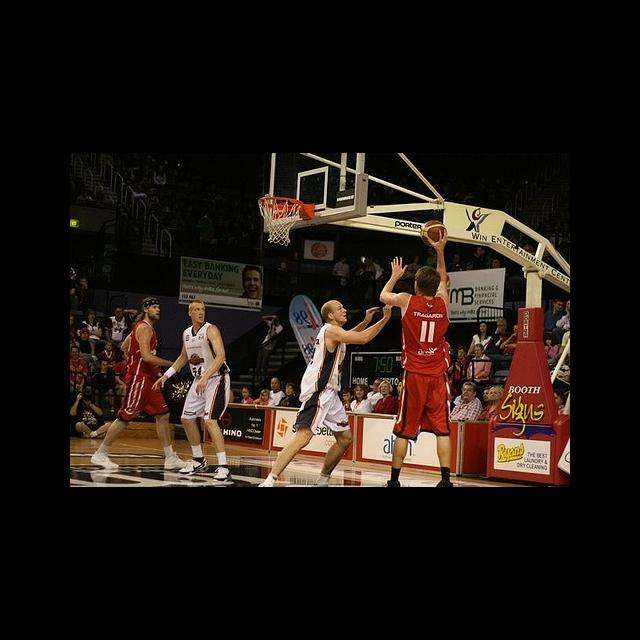basketball: (424, 222, 447, 244)
hoop: (257, 195, 301, 246)
